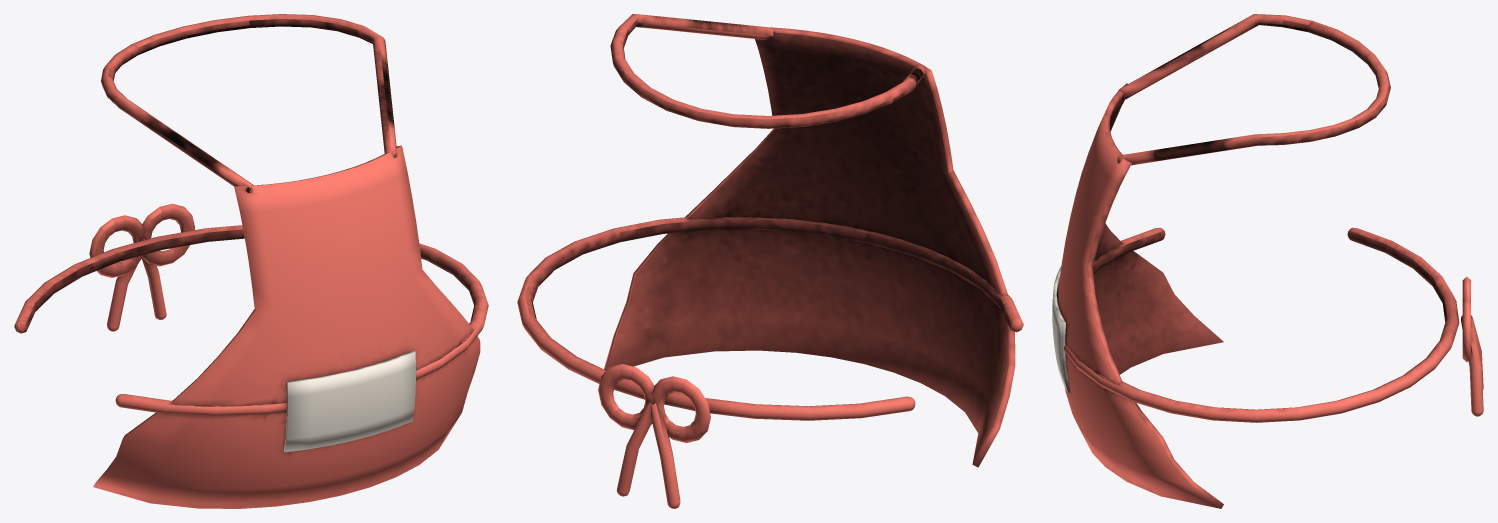
Rendered from apron.glb.
The picture shows the model from 3 angles, left to right: view 1: azimuth 30°, elevation 25°; view 2: azimuth 150°, elevation 25°; view 3: azimuth 270°, elevation 25°; orthographic projection. The views are drawn at different scales.
Parts seen in each view (by area): view 1: apron; view 2: apron; view 3: apron.
Part boxes in pixels (x1,y1,x2,y2): apron: (14, 14, 488, 508); apron: (517, 14, 1023, 508); apron: (1052, 14, 1483, 508).
Size of the model in its own units: 0.5044 by 0.4402 by 0.4897.
Materials: 2 (2 with a texture image).
